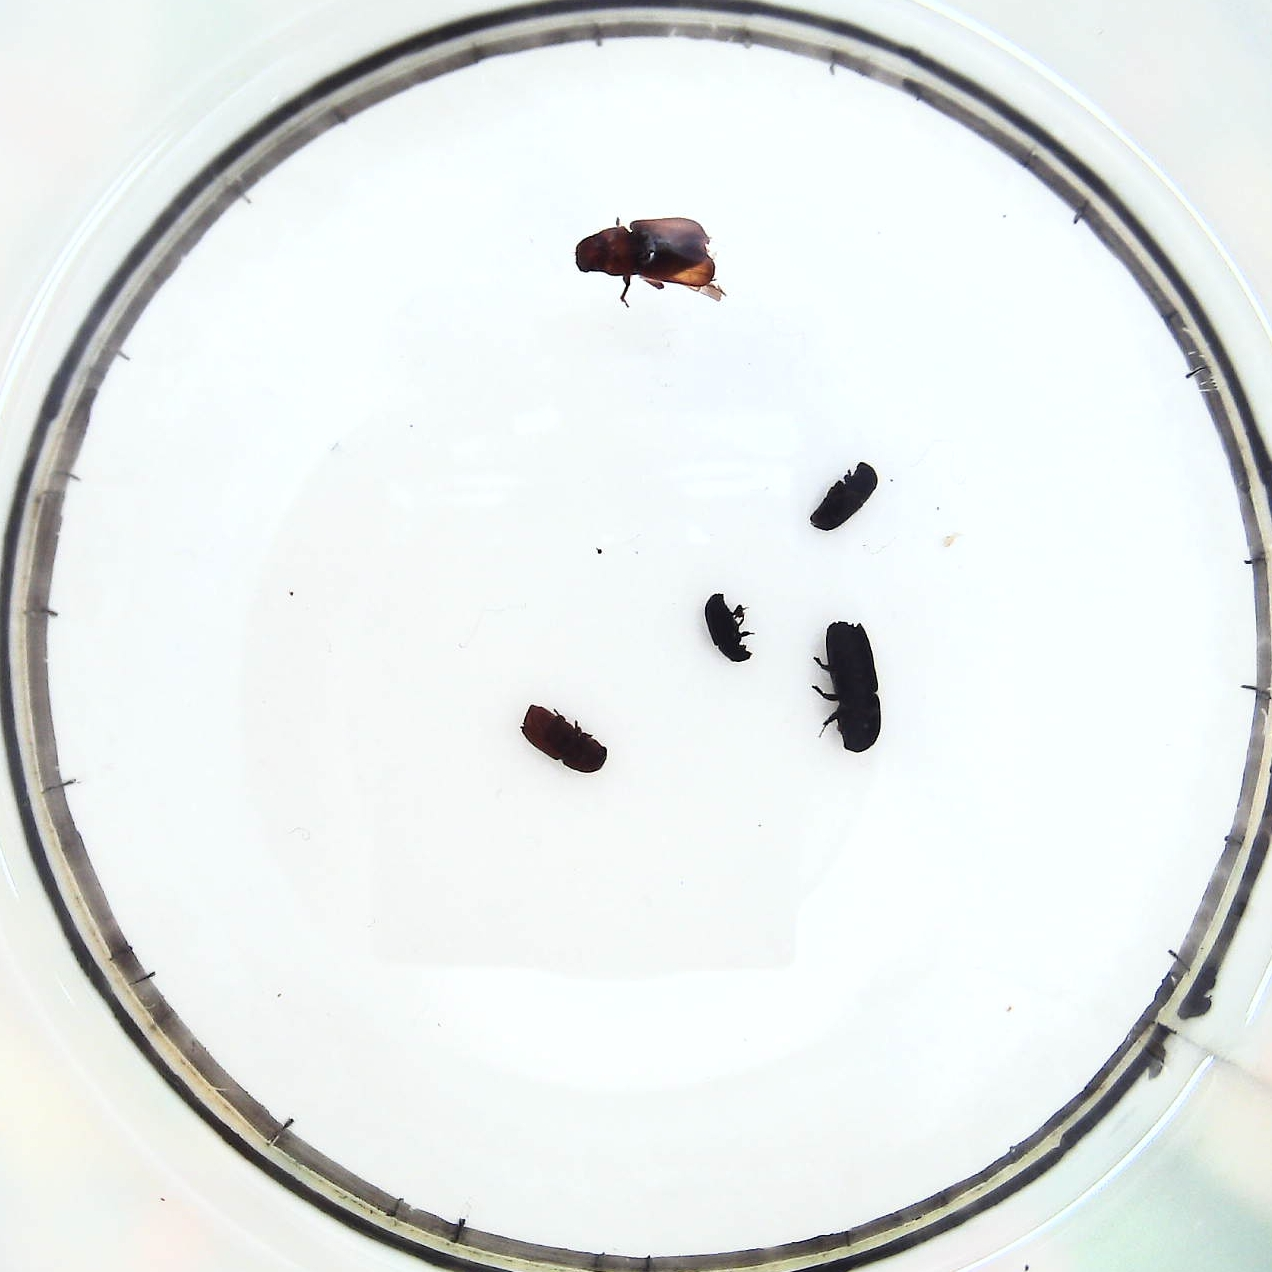Boerner: (817, 621, 883, 752)
Leconte: (572, 215, 726, 303)
Linnaeus: (518, 704, 612, 776)
armandi: (812, 461, 879, 528)
coleoptera: (705, 594, 752, 665)
